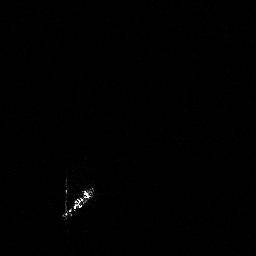ship: (60, 174, 98, 224)
